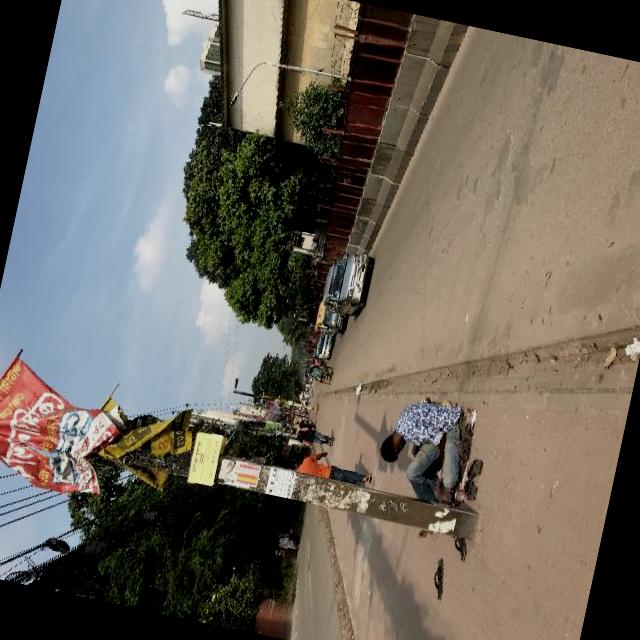bus: (312, 306, 347, 334), (286, 440, 309, 464)
car: (314, 331, 333, 356), (306, 376, 311, 381)
motorcycle: (308, 362, 333, 382), (279, 496, 302, 511), (311, 356, 327, 365)
truck: (322, 246, 374, 311)
